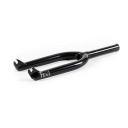fork: (9, 38, 121, 83)
